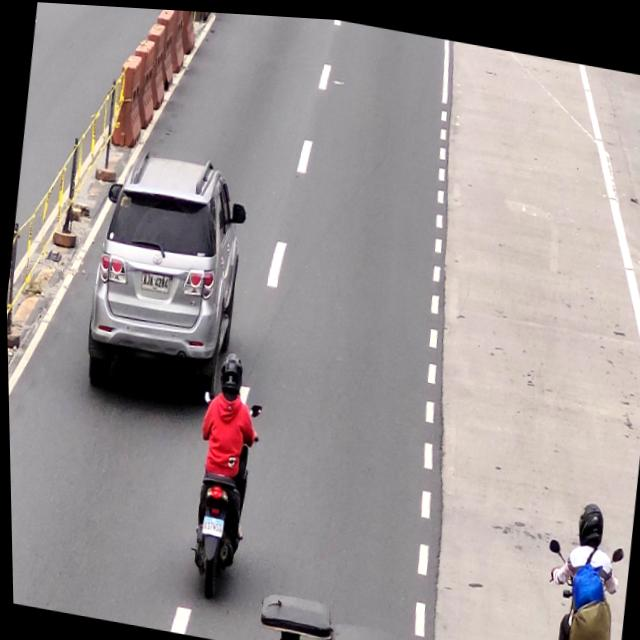Car: (79, 143, 245, 391)
License-Plate: (138, 267, 168, 293), (197, 511, 224, 539)
Motorcycle: (177, 346, 262, 607), (537, 492, 627, 640)
Tricycle: (249, 586, 415, 640)
